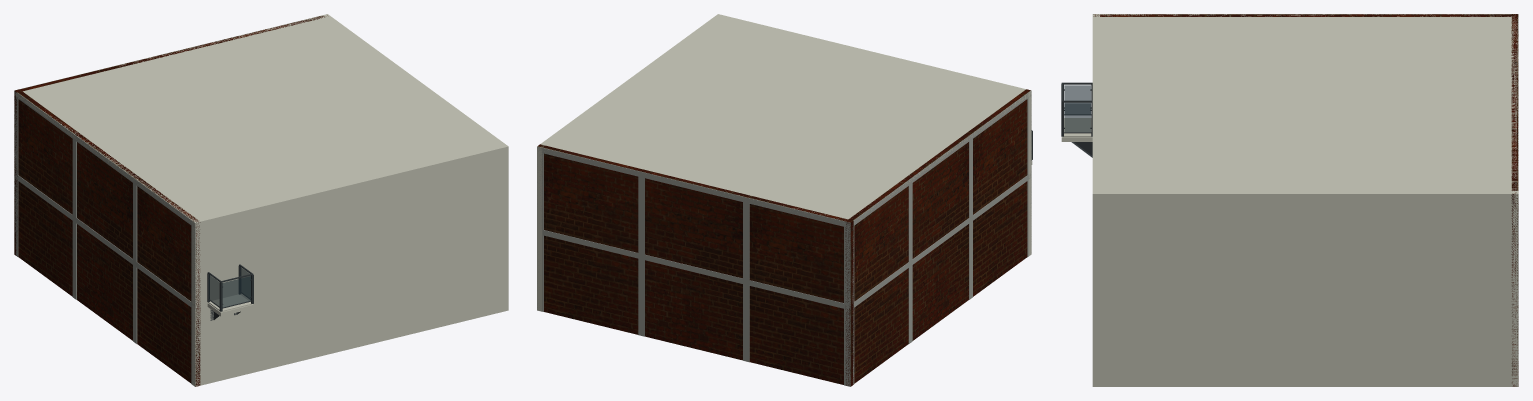
File: building.glb
3 renders of one model, left to right at view 1: azimuth 30°, elevation 25°; view 2: azimuth 150°, elevation 25°; view 3: azimuth 270°, elevation 25°, orthographic. The views are drawn at different scales.
Visible parts, largest first — view 1: roof/house:0/roof_slab#0001, house:0/edge0/z0/house:0/edge0/z0/wall_0_0, house:0/edge3/z0/house:0/edge3/z0/wall_0_0, house:0/edge2/z0/house:0/edge2/z0/wall_0_0, house:0/edge3/z0/house:0/edge3/z0/beam_0_0, house:0/edge3/z0/house:0/edge3/z0/beam_1_0, house:0/edge1/z0/house:0/edge1/z0/wall_0_0, balcony/sample/balcony_glass#0002; view 2: roof/house:0/roof_slab#0001, house:0/edge2/z0/house:0/edge2/z0/wall_0_0, house:0/edge3/z0/house:0/edge3/z0/wall_0_0, house:0/edge1/z0/house:0/edge1/z0/wall_0_0, house:0/edge2/z0/house:0/edge2/z0/beam_1_0, house:0/edge2/z0/house:0/edge2/z0/beam_0_0, house:0/edge0/z0/house:0/edge0/z0/wall_0_0, house:0/edge3/z0/house:0/edge3/z0/beam_0_0, house:0/edge3/z0/house:0/edge3/z0/beam_1_0, house:0/edge2/z0/house:0/edge2/z0/column_2_0, house:0/edge2/z0/house:0/edge2/z0/column_2_1, house:0/edge2/z0/house:0/edge2/z0/column_3_0 (+3 smaller); view 3: house:0/edge1/z0/house:0/edge1/z0/wall_0_0, roof/house:0/roof_slab#0001, house:0/edge0/z0/house:0/edge0/z0/wall_0_0, house:0/edge2/z0/house:0/edge2/z0/wall_0_0, house:0/edge3/z0/house:0/edge3/z0/wall_0_0, balcony/sample/balcony_glass#0003, balcony/sample/balcony_glass#0001, balcony/sample/balcony_platform#0001.
Boxes of the visible parts, x1,y1,x2,y2 form: roof/house:0/roof_slab#0001: [15, 14, 506, 225]; house:0/edge0/z0/house:0/edge0/z0/wall_0_0: [192, 144, 508, 386]; house:0/edge3/z0/house:0/edge3/z0/wall_0_0: [17, 89, 200, 386]; house:0/edge2/z0/house:0/edge2/z0/wall_0_0: [14, 15, 327, 255]; house:0/edge3/z0/house:0/edge3/z0/beam_0_0: [14, 173, 195, 309]; house:0/edge3/z0/house:0/edge3/z0/beam_1_0: [14, 92, 195, 227]; house:0/edge1/z0/house:0/edge1/z0/wall_0_0: [323, 14, 508, 311]; balcony/sample/balcony_glass#0002: [222, 276, 251, 307]; roof/house:0/roof_slab#0001: [540, 14, 1031, 223]; house:0/edge2/z0/house:0/edge2/z0/wall_0_0: [538, 144, 853, 386]; house:0/edge3/z0/house:0/edge3/z0/wall_0_0: [845, 89, 1030, 385]; house:0/edge1/z0/house:0/edge1/z0/wall_0_0: [537, 15, 722, 311]; house:0/edge2/z0/house:0/edge2/z0/beam_1_0: [538, 147, 850, 228]; house:0/edge2/z0/house:0/edge2/z0/beam_0_0: [542, 230, 850, 309]; house:0/edge0/z0/house:0/edge0/z0/wall_0_0: [717, 14, 1031, 256]; house:0/edge3/z0/house:0/edge3/z0/beam_0_0: [850, 172, 1031, 309]; house:0/edge3/z0/house:0/edge3/z0/beam_1_0: [850, 90, 1031, 227]; house:0/edge2/z0/house:0/edge2/z0/column_2_0: [638, 176, 644, 254]; house:0/edge2/z0/house:0/edge2/z0/column_2_1: [638, 258, 644, 336]; house:0/edge2/z0/house:0/edge2/z0/column_3_0: [743, 202, 749, 280]; house:0/edge1/z0/house:0/edge1/z0/wall_0_0: [1092, 191, 1518, 386]; roof/house:0/roof_slab#0001: [1092, 14, 1518, 198]; house:0/edge0/z0/house:0/edge0/z0/wall_0_0: [1092, 14, 1099, 386]; house:0/edge2/z0/house:0/edge2/z0/wall_0_0: [1511, 14, 1518, 386]; house:0/edge3/z0/house:0/edge3/z0/wall_0_0: [1093, 14, 1517, 16]; balcony/sample/balcony_glass#0003: [1064, 103, 1090, 132]; balcony/sample/balcony_glass#0001: [1064, 85, 1090, 113]; balcony/sample/balcony_platform#0001: [1063, 118, 1092, 137].
Size of the model in its own units: 12 by 6 by 12.89.
5 materials, 1 textured.
